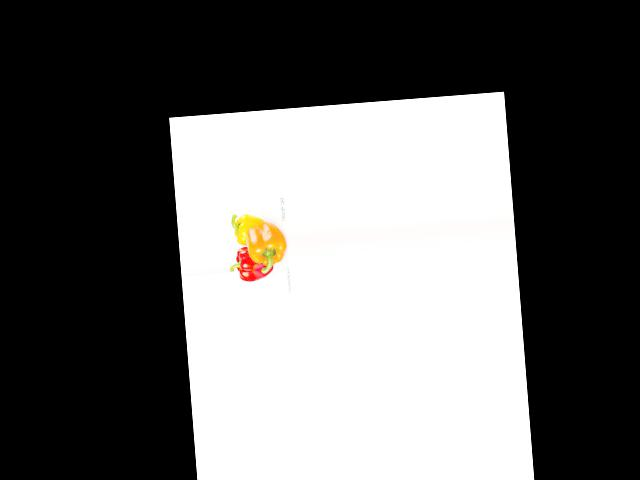bell_pepper: (228, 210, 268, 248)
